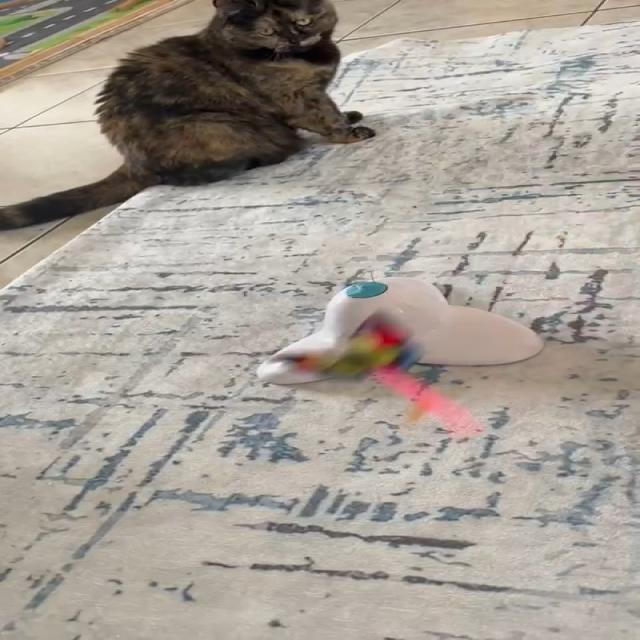authorized: (0, 0, 375, 231)
